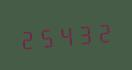five: (37, 22, 55, 50)
four: (56, 20, 74, 49)
three: (75, 19, 93, 47)
two: (18, 24, 36, 52), (94, 17, 112, 45)
